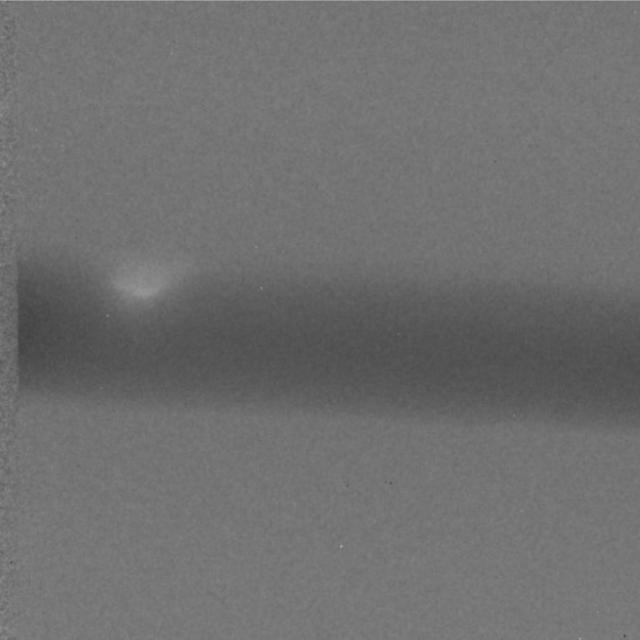bite-edge: (102, 254, 202, 313)
